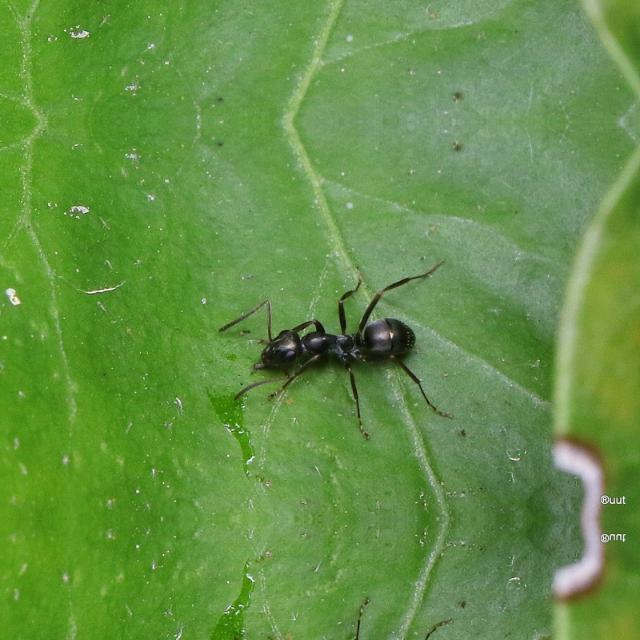Formica: (236, 286, 428, 396)
